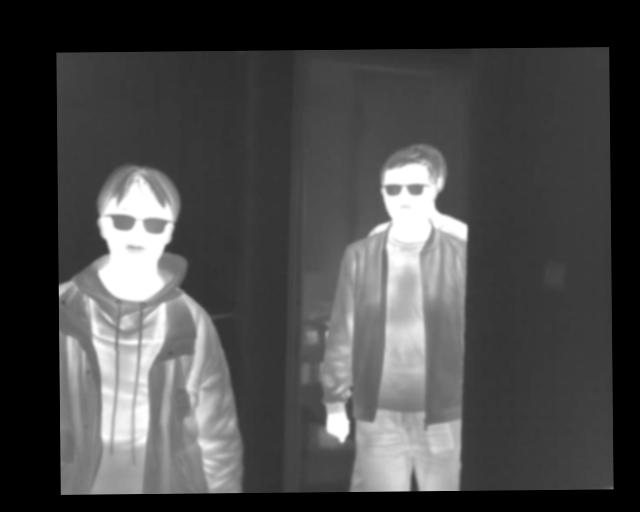face: (95, 162, 179, 270), (378, 146, 441, 226)
